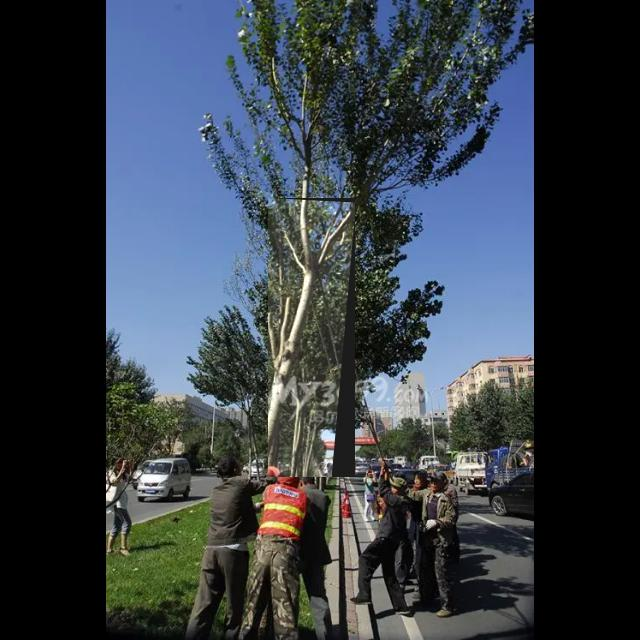Fallen Tree: (268, 198, 356, 478)
